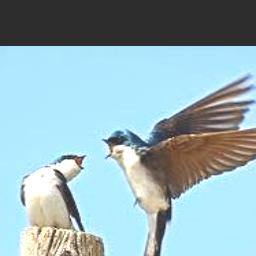Swallow: (101, 74, 256, 256), (19, 153, 85, 232)
